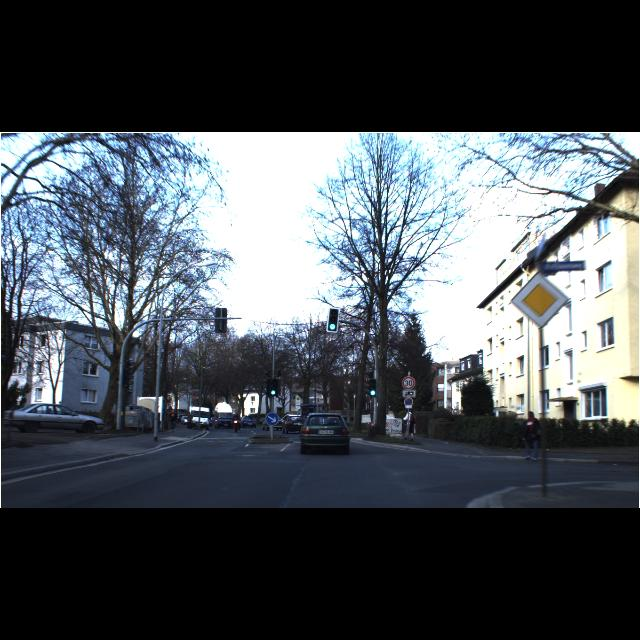mandatory: (265, 412, 279, 426)
other: (510, 271, 568, 329)
prohibitory: (401, 376, 415, 390)
